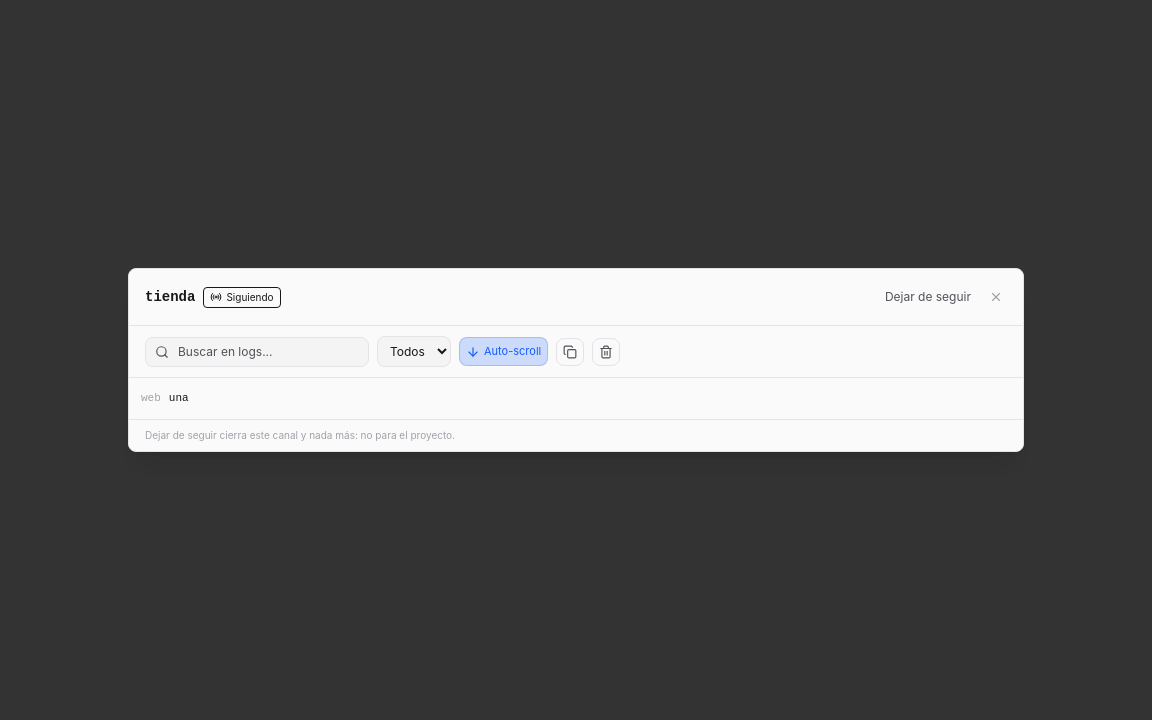
Test case: ComposeLogsViewer › limpia la consola sin cerrar el seguimiento
This screenshot has width=1152, height=720.
Click the button named "limpiar consola": {"x": 606, "y": 352} [592,338,620,366]
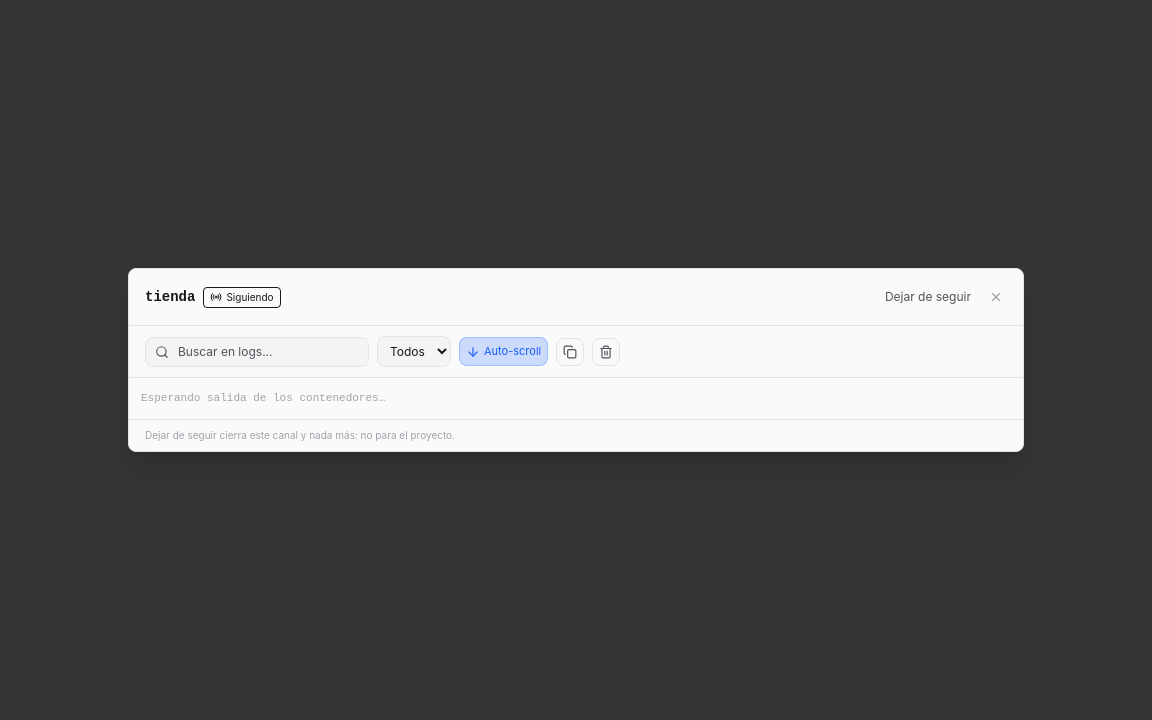
Expected: the text "web" is gone
